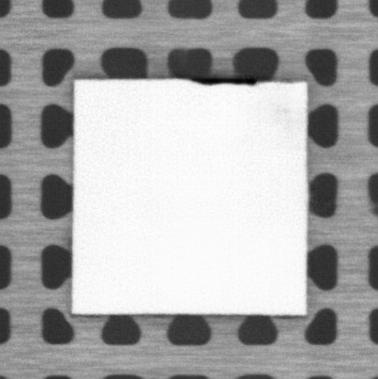DIE_BROKEN: (191, 74, 259, 86)
